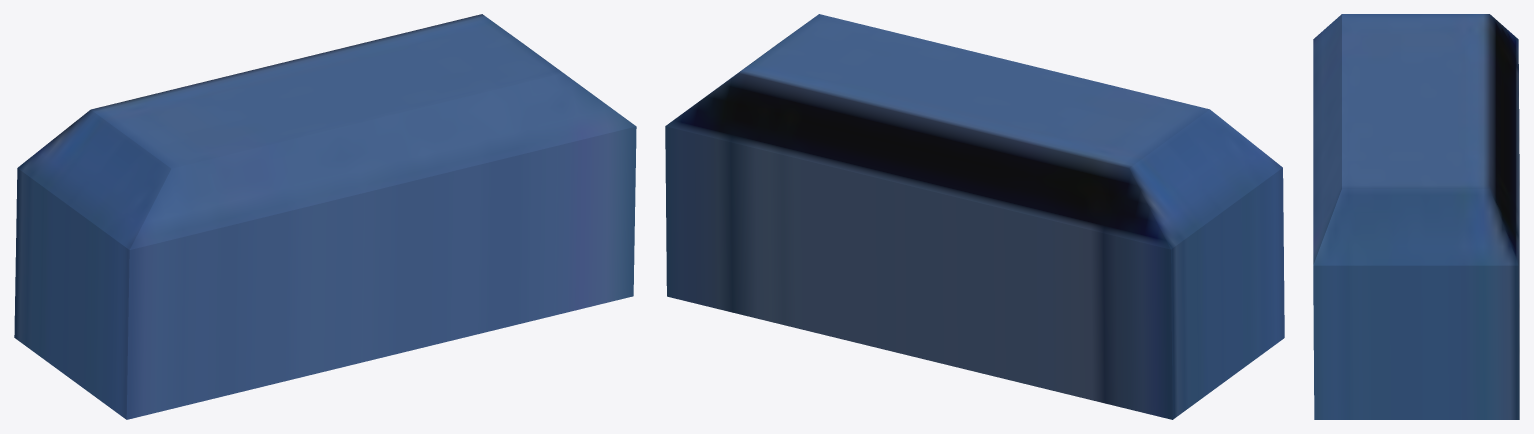
File: Old_Computer_Enter_New.glb
The picture shows the model from 3 angles, left to right: view 1: azimuth 30°, elevation 25°; view 2: azimuth 150°, elevation 25°; view 3: azimuth 270°, elevation 25°; orthographic projection. The views are drawn at different scales.
Parts seen in each view (by area): view 1: Cube.002; view 2: Cube.002; view 3: Cube.002.
Part boxes in pixels (<box>): Cube.002: <box>14,14,636,419</box>; Cube.002: <box>665,14,1284,419</box>; Cube.002: <box>1313,14,1519,419</box>.
Bounding box in the file's own units: 0.5452 × 0.2308 × 0.2094.
1 material, 1 textured.
